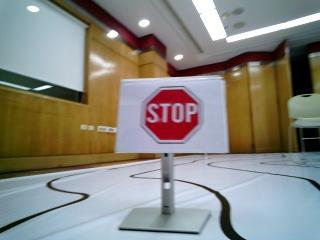stop: (117, 81, 224, 155)
